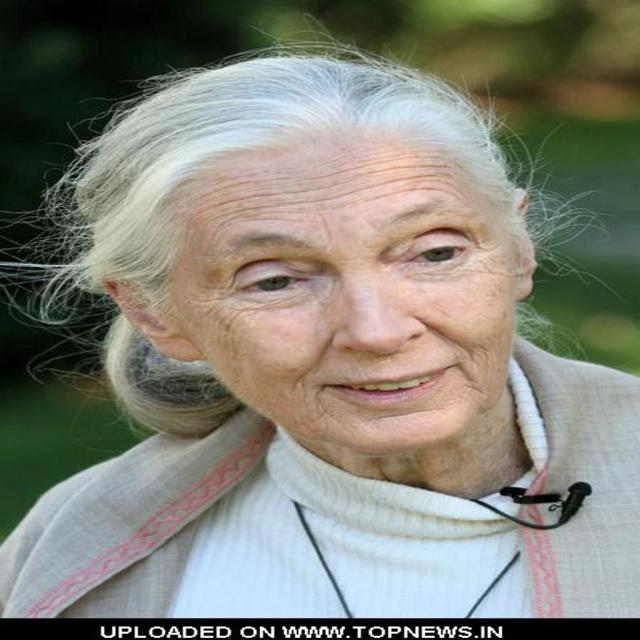Face: (143, 140, 550, 463)
